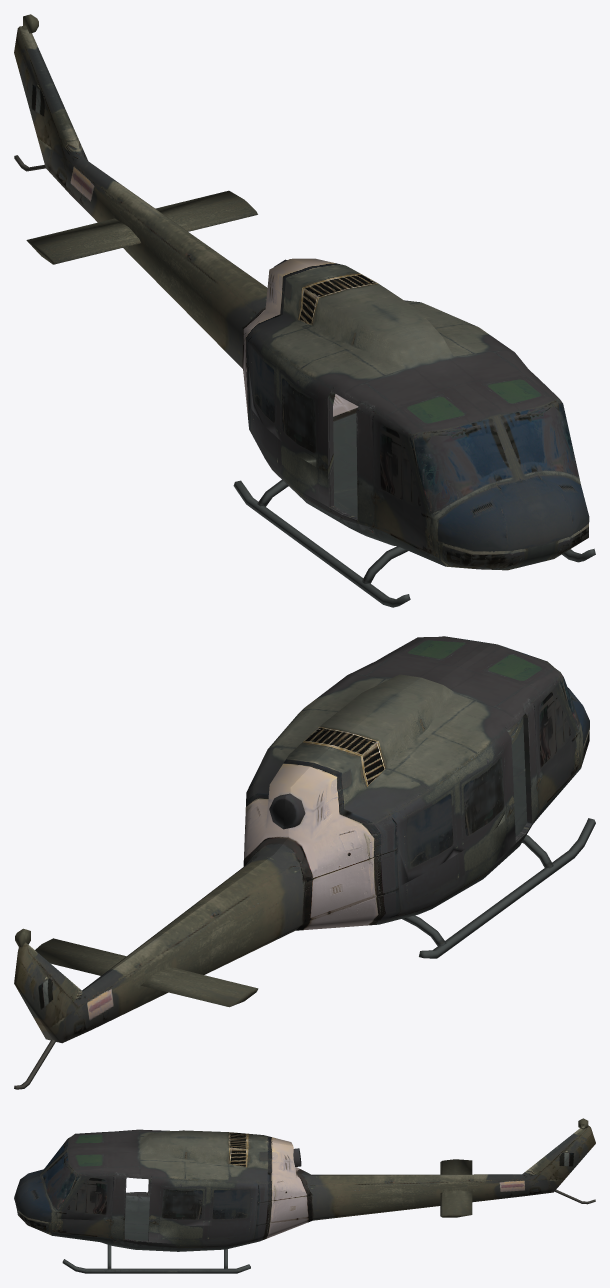
Rendered from helicopter3.glb.
3 views of the same model, one above another, from view 1: azimuth 30°, elevation 25°; view 2: azimuth 150°, elevation 25°; view 3: azimuth 270°, elevation 25° (orthographic). The views are drawn at different scales.
Parts seen in each view (by area): view 1: _stm_heli_1; view 2: _stm_heli_1; view 3: _stm_heli_1.
Boxes of the visible parts, box(x1,y1,x2,y2) form: _stm_heli_1: box(14, 14, 595, 607); _stm_heli_1: box(14, 636, 595, 1089); _stm_heli_1: box(14, 1118, 595, 1273).
Size of the model in its own units: 7.09 by 7.88 by 32.02.
Materials: 1 (1 with a texture image).
